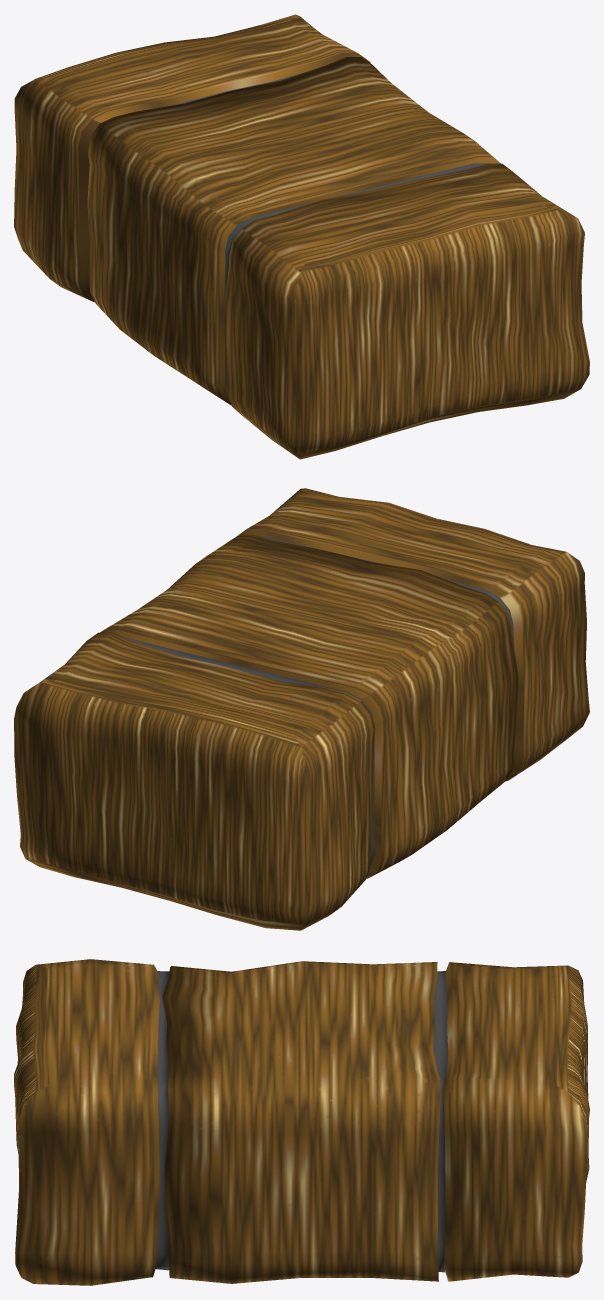
The model's file is hayBox.fbx.
The picture shows the model from 3 angles, top to bottom: view 1: azimuth 30°, elevation 25°; view 2: azimuth 150°, elevation 25°; view 3: azimuth 270°, elevation 25°; orthographic projection.
Visible parts, largest first — view 1: hayBox.001; view 2: hayBox.001; view 3: hayBox.001.
Boxes of the visible parts, x1=… form: hayBox.001: x1=14, y1=14, x2=589, y2=459; hayBox.001: x1=14, y1=488, x2=589, y2=930; hayBox.001: x1=14, y1=959, x2=589, y2=1285.
Bounding box in the file's own units: 63.68 × 41.82 × 106.
